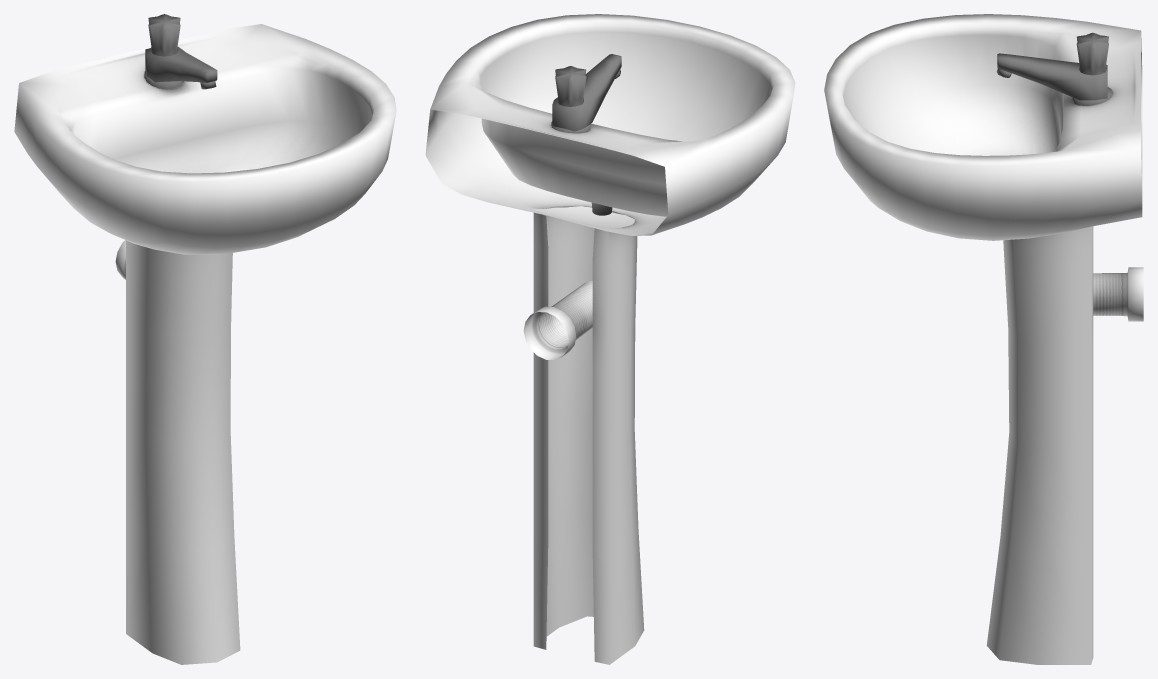
File: Sink.fbx
The picture shows the model from 3 angles, left to right: view 1: azimuth 30°, elevation 25°; view 2: azimuth 150°, elevation 25°; view 3: azimuth 270°, elevation 25°; orthographic projection. The views are drawn at different scales.
Parts seen in each view (by area): view 1: sink; view 2: sink; view 3: sink.
Boxes of the visible parts, x1,y1,x2,y2 form: sink: (14,14,396,664); sink: (425,14,795,664); sink: (824,14,1143,664).
Bounding box in the file's own units: 52.57 × 97.39 × 46.59.
2 materials, 1 textured.
